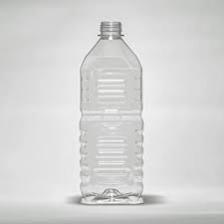plastic: (75, 20, 148, 208)
